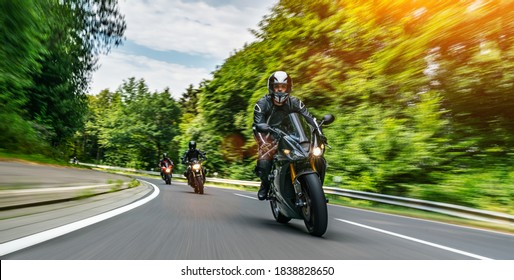Motorcycle: (237, 111, 347, 238), (179, 156, 208, 194), (157, 160, 177, 186)
